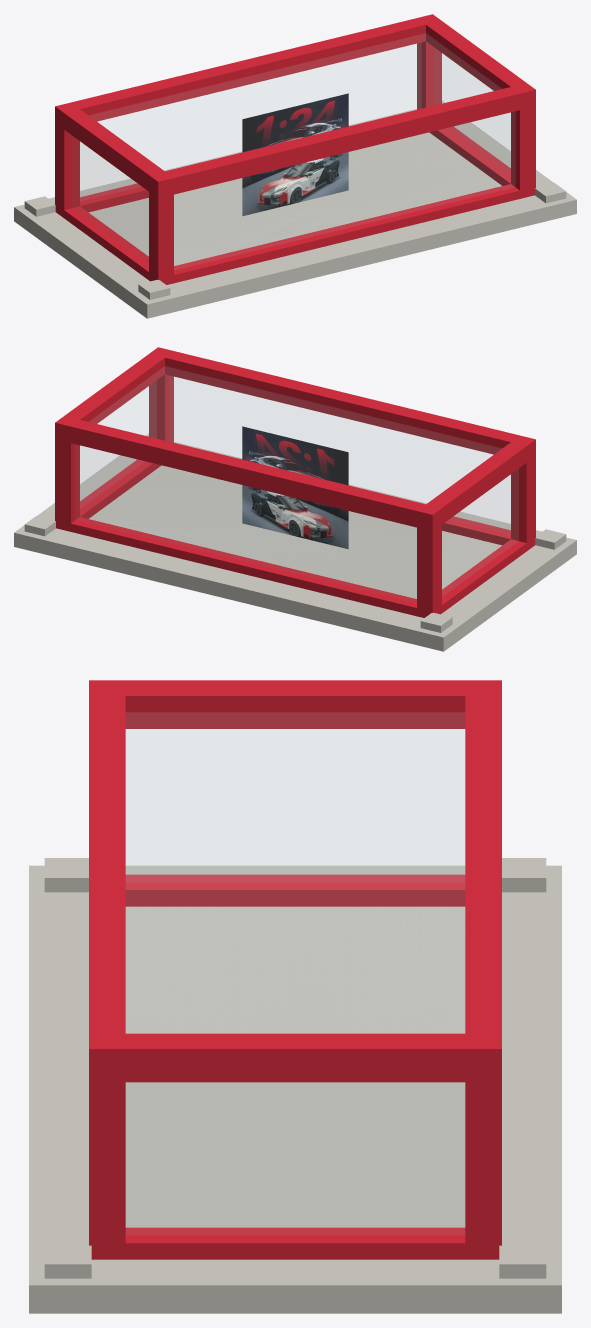
The model's file is toyota-gr-supra-gt4.glb.
3 renders of one model, top to bottom at view 1: azimuth 30°, elevation 25°; view 2: azimuth 150°, elevation 25°; view 3: azimuth 270°, elevation 25°, orthographic. The views are drawn at different scales.
Bounding box in the file's own units: 0.19 × 0.0505 × 0.102.
4 materials, 1 textured.
